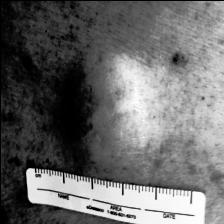Unclassified: (76, 66, 142, 160)
